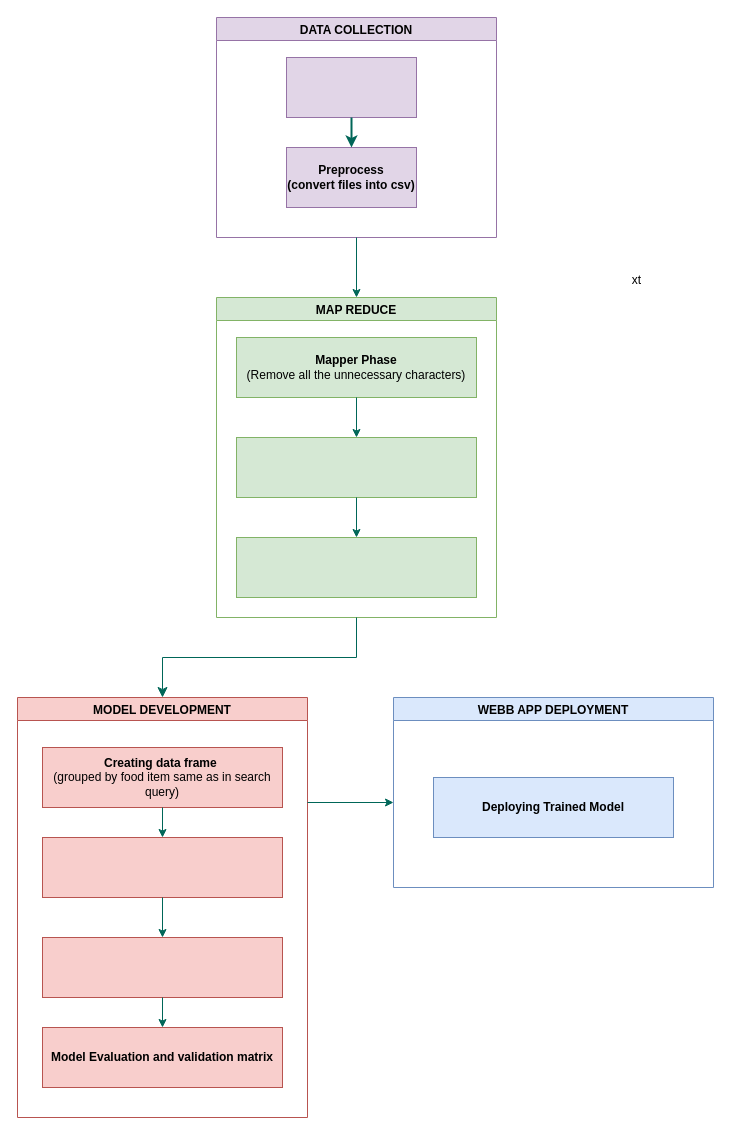
Image size: 731x1135. Some labels were removed from this diagram. The shapes that lost their labels are listed below. From the top down, each one's centre as x and y in pixels, then its label:
At point 351,87: "Acquire Food Review Dataset".
At point 356,467: "Sort and Shuffle (organise based on food item)".
At point 356,567: "Reduce Phase (aggregate and remove duplicate)".
At point 162,867: "Cosine similarities between reviews".
At point 162,967: "Recommendation (based on similar reviews)".
